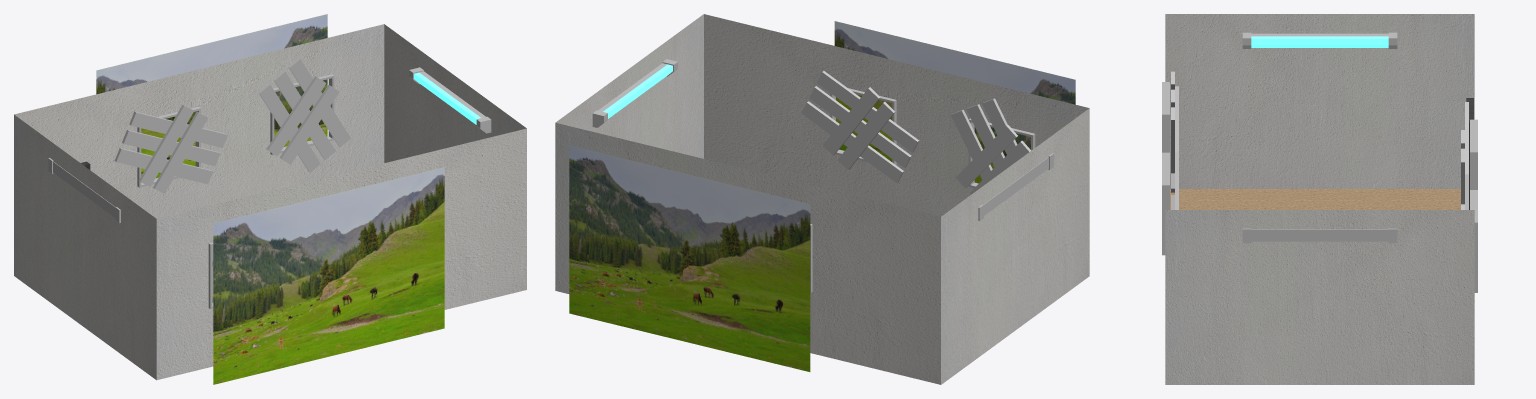
File: safehouse2.FBX
3 views of the same model, side by side, from view 1: azimuth 30°, elevation 25°; view 2: azimuth 150°, elevation 25°; view 3: azimuth 270°, elevation 25° (orthographic). The views are drawn at different scales.
Parts seen in each view (by area): view 1: Room, Box001; view 2: Room, Box001; view 3: Room, Box001.
Boxes of the visible parts, left/top/right/bottom form: Room: left=14, top=14, right=526, bottom=384; Box001: left=48, top=67, right=491, bottom=222; Room: left=555, top=14, right=1089, bottom=384; Box001: left=592, top=59, right=1053, bottom=221; Room: left=1162, top=14, right=1477, bottom=384; Box001: left=1242, top=32, right=1397, bottom=243.
Size of the model in its own units: 121 by 50.84 by 104.
